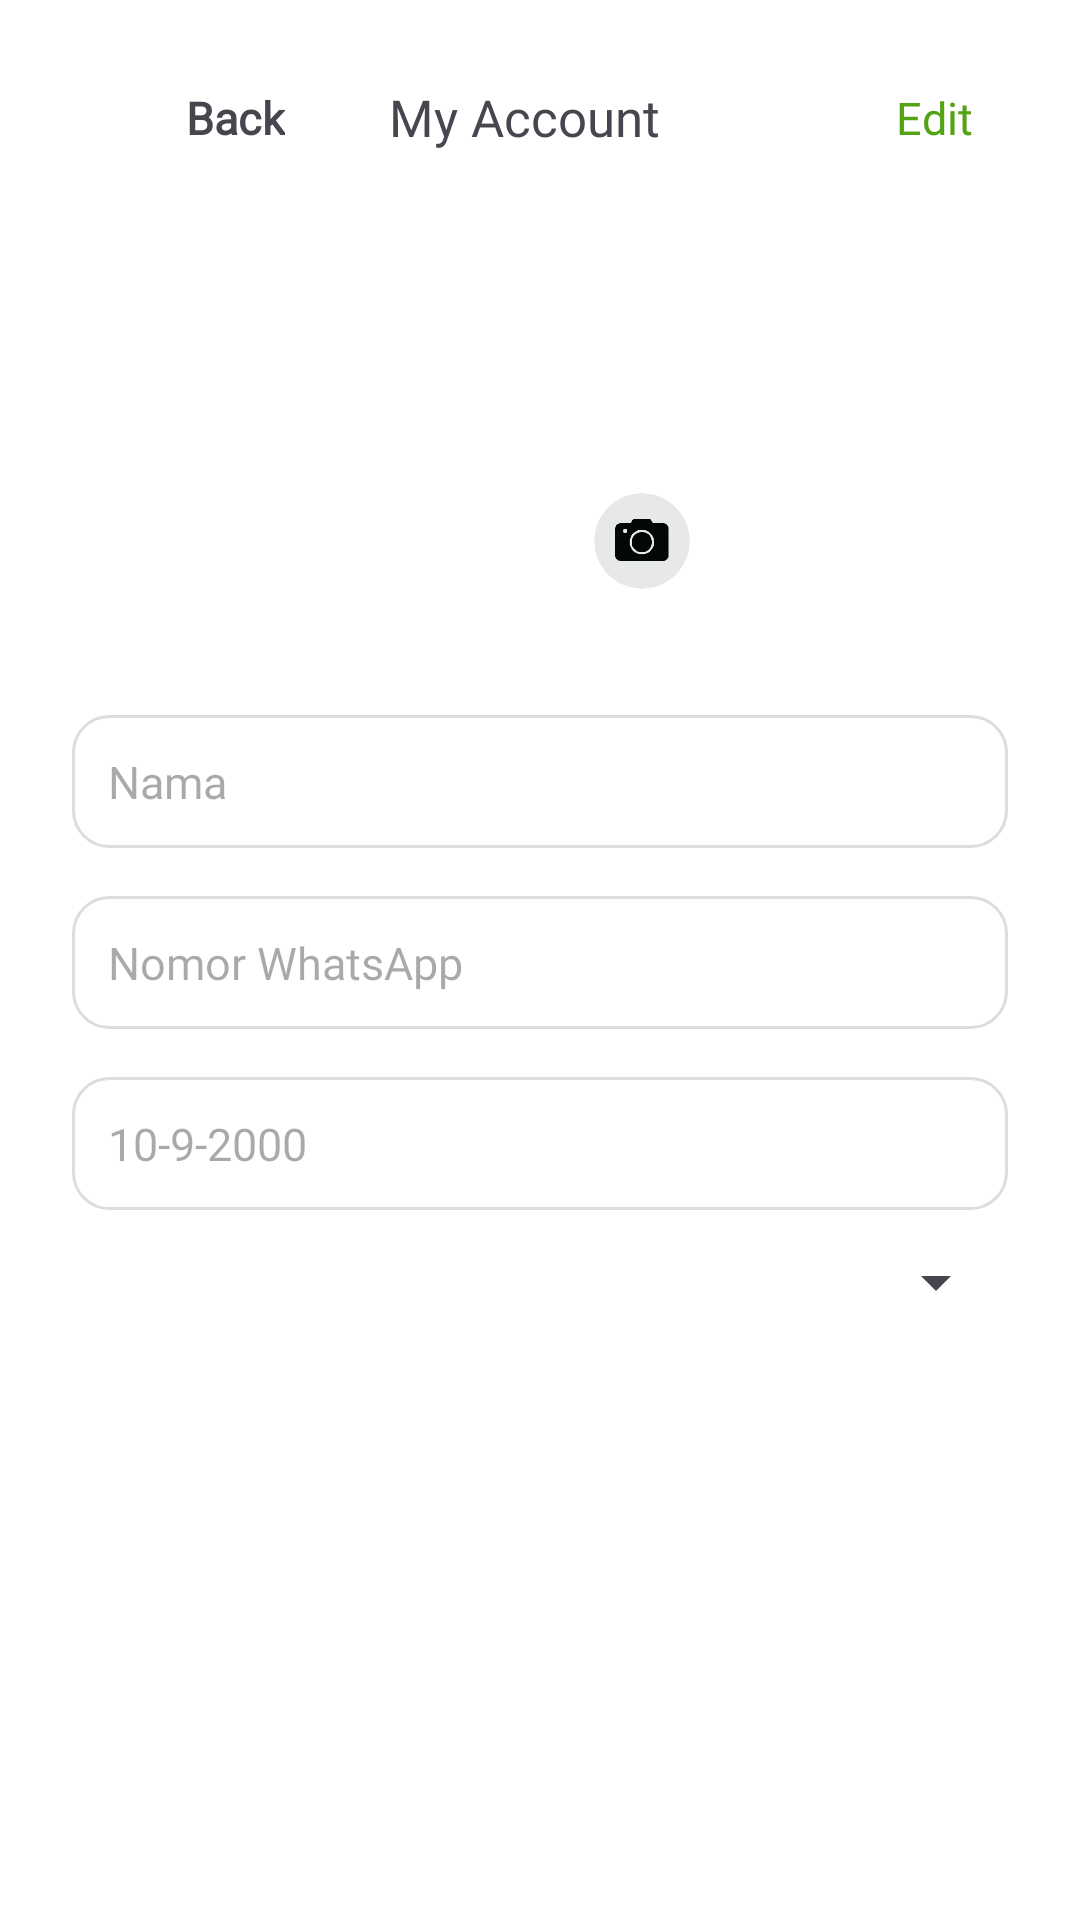

Icons on this 1080w x 1920h Android screen, each with the point to tap as (x,y):
camera: (642,540)
